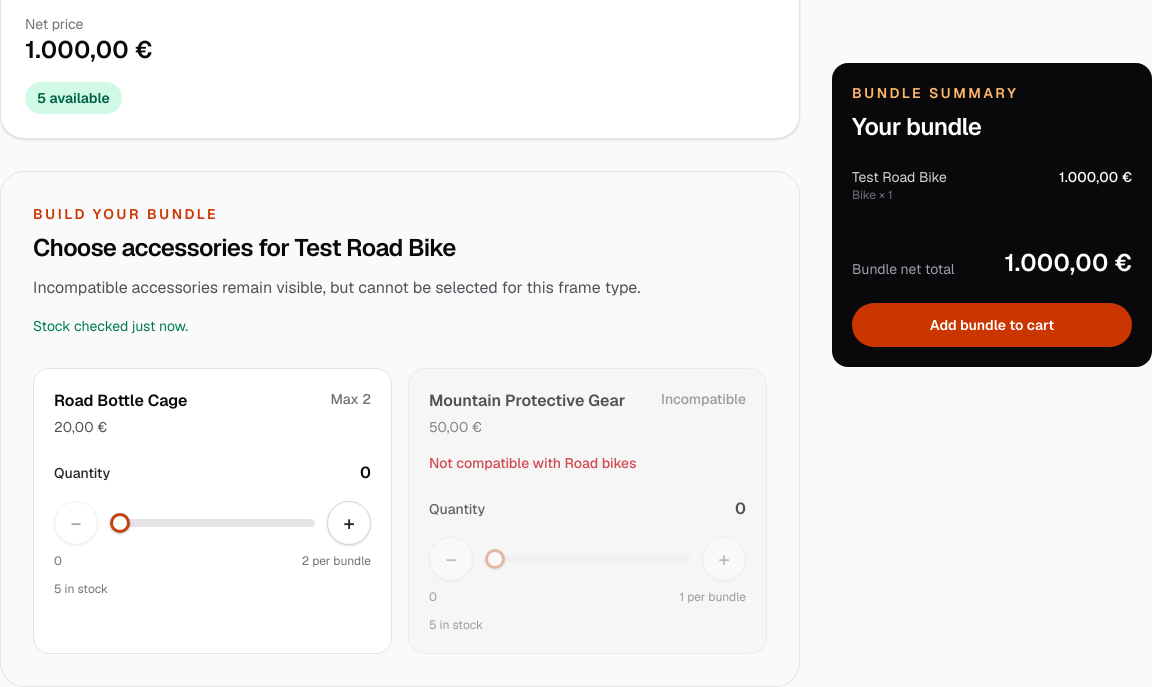
it: BundleConfigurator › updates the quantity and bundle summary through the plus control
(page scrolled)
Click the button "+" below "20,00 €" at (349, 523), box [327,501,371,545]
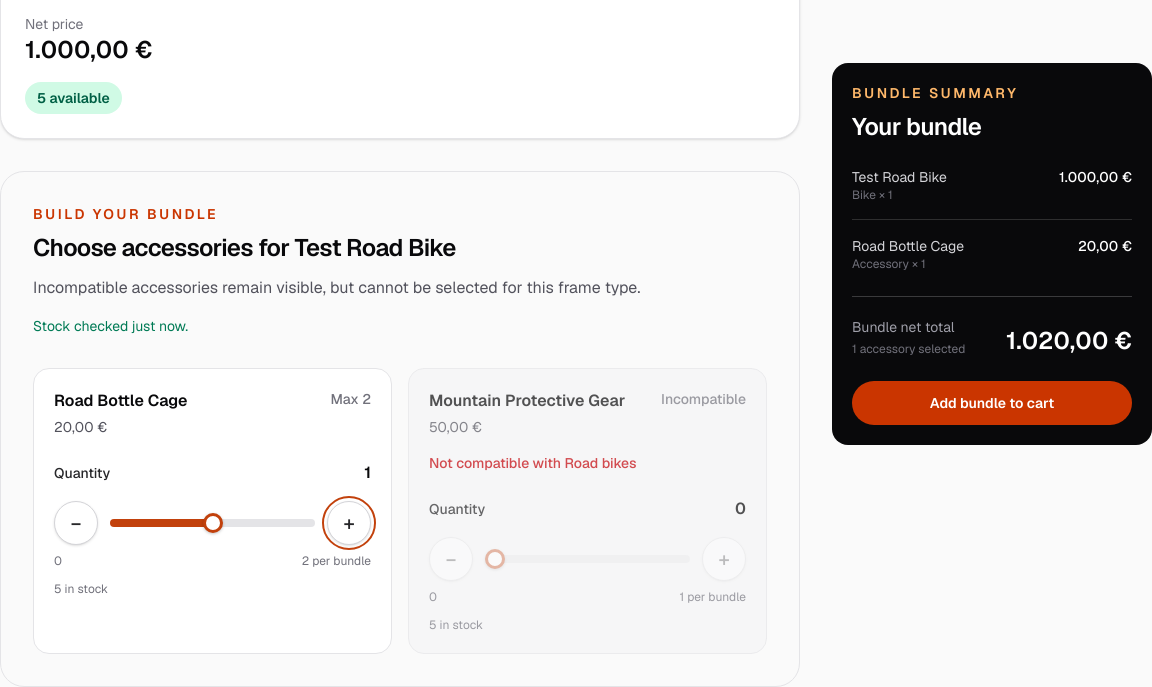
Result: the text "1 accessory selected" is shown at [852,341,965,357]
Result: the text "Road Bottle Cage" is shown at [852,237,964,255]
